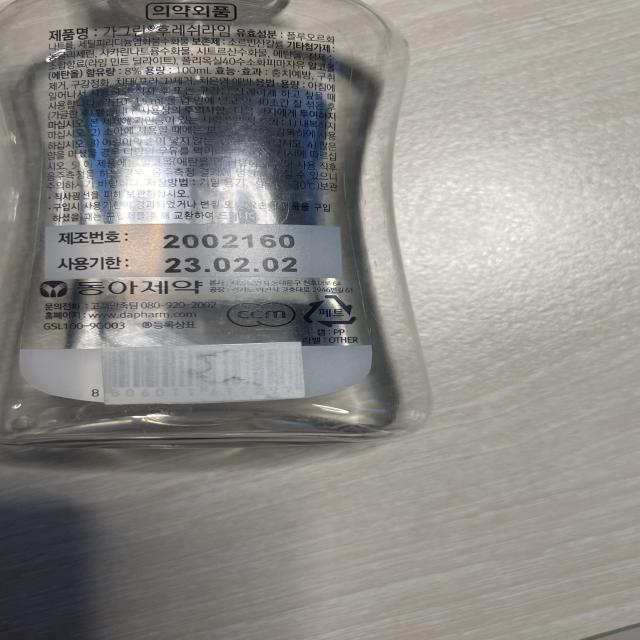PET: (297, 294, 361, 328)
